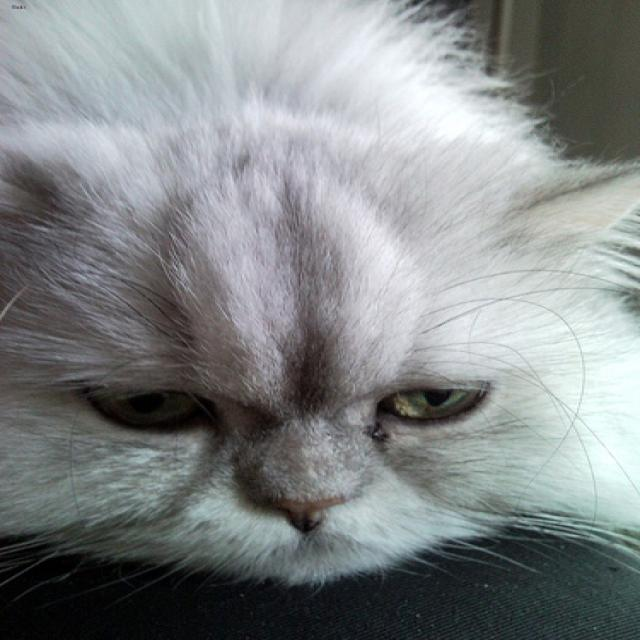cat: (0, 126, 638, 578)
